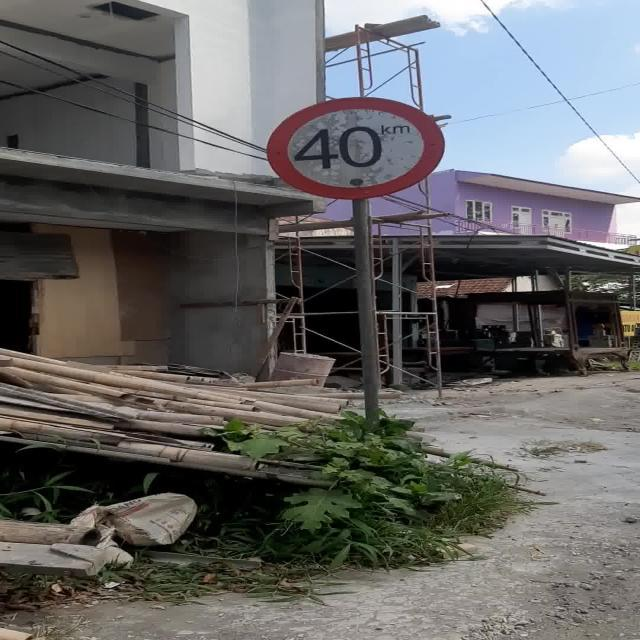Kecepatan Maks. 40 km: (265, 96, 445, 200)
